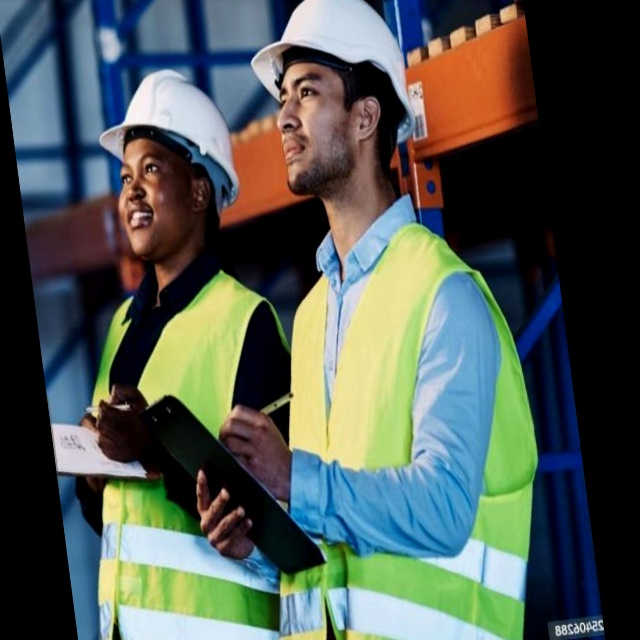Con_Casco: (240, 0, 422, 203), (91, 58, 251, 263)
Con_Chaleco: (241, 215, 571, 640), (54, 261, 315, 640)
